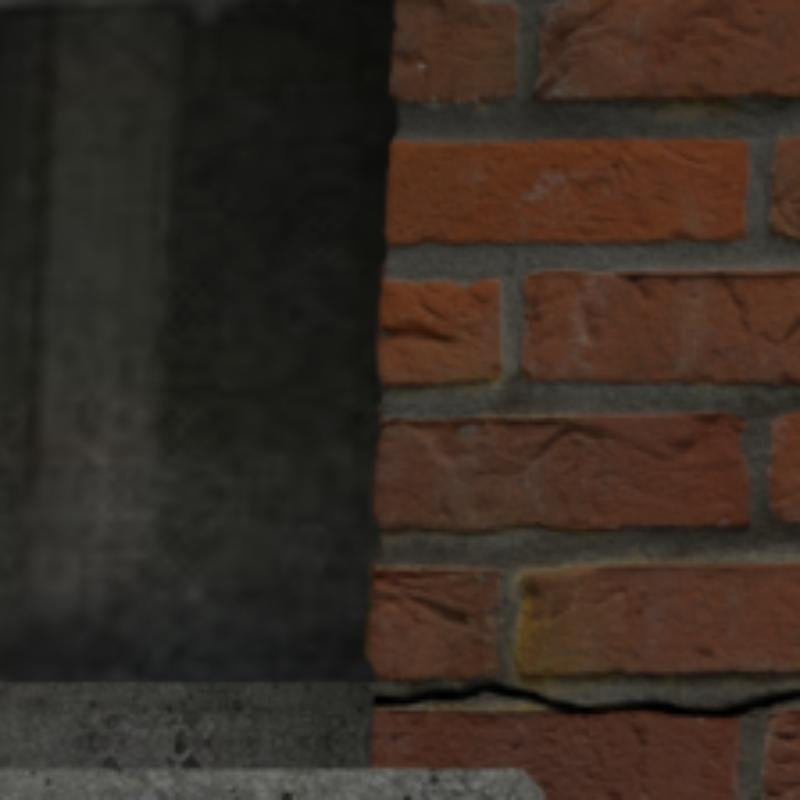pothole: (375, 679, 796, 714)
